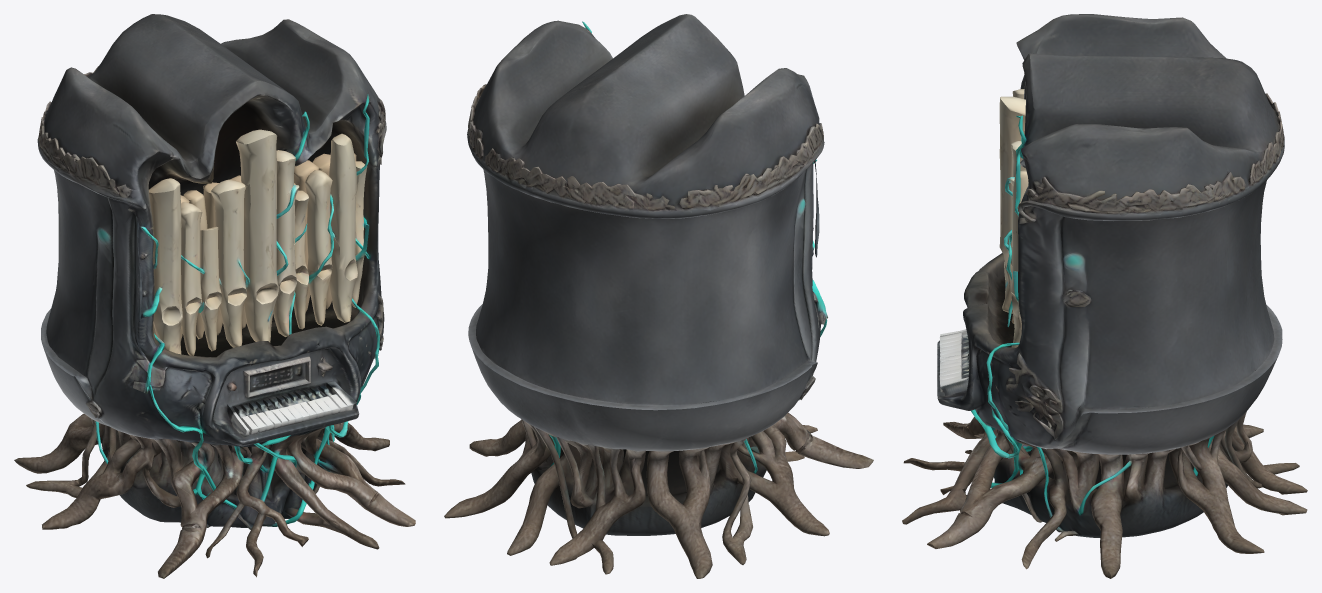
The model's file is landmark_memory_organ.glb.
3 views of the same model, side by side, from view 1: azimuth 30°, elevation 25°; view 2: azimuth 150°, elevation 25°; view 3: azimuth 270°, elevation 25° (orthographic). The views are drawn at different scales.
Parts seen in each view (by area): view 1: model; view 2: model; view 3: model.
Part boxes in pixels (x1,y1,x2,y2): model: (14,14,415,578); model: (444,14,873,578); model: (902,14,1307,578).
Size of the model in its own units: 1.58 by 1.9 by 1.58.
1 material, 1 textured.
